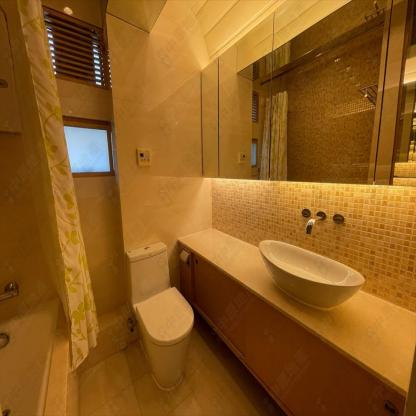Bathtub: (0, 300, 61, 415)
Faucet: (300, 207, 347, 235)
Toilet: (125, 239, 198, 386)
Toilet Sink: (259, 238, 367, 313)
